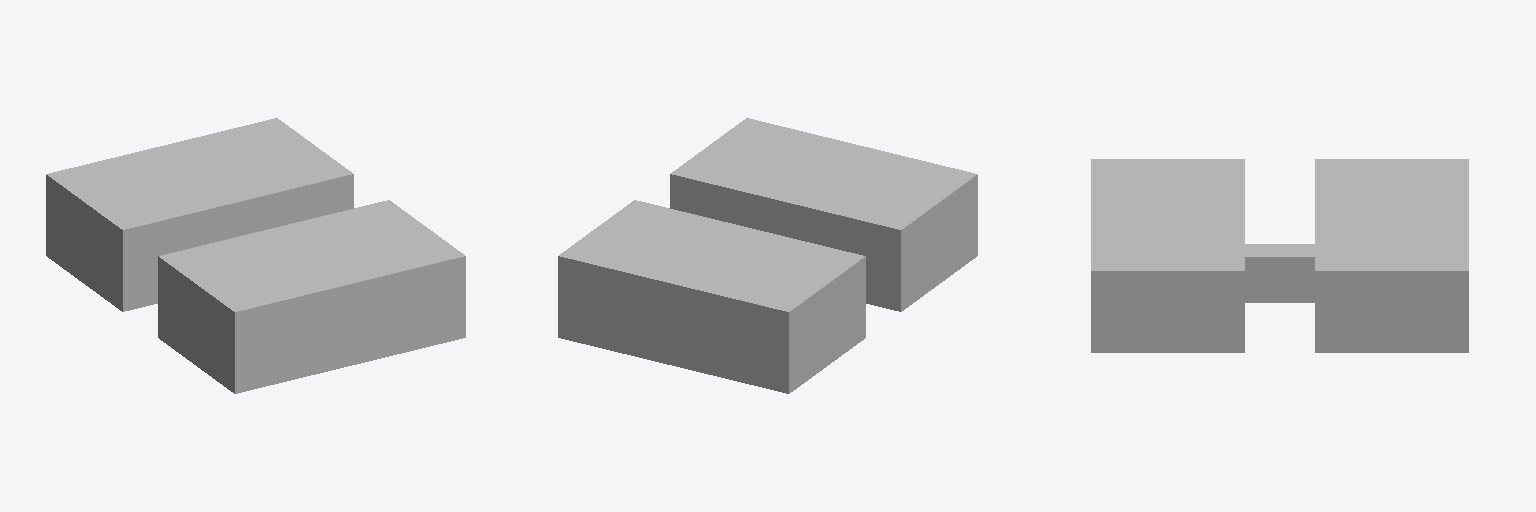
The model's file is placeholder_room.obj.
The picture shows the model from 3 angles: view 1: azimuth 30°, elevation 25°; view 2: azimuth 150°, elevation 25°; view 3: azimuth 270°, elevation 25°; orthographic projection.
Visible parts, largest first — view 1: Plane; view 2: Plane; view 3: Plane.
Part boxes in pixels (left/top/right/bottom): Plane: left=46, top=118, right=465, bottom=393; Plane: left=558, top=118, right=977, bottom=393; Plane: left=1091, top=159, right=1468, bottom=352.
Size of the model in its own units: 10.84 by 3.67 by 15.34.